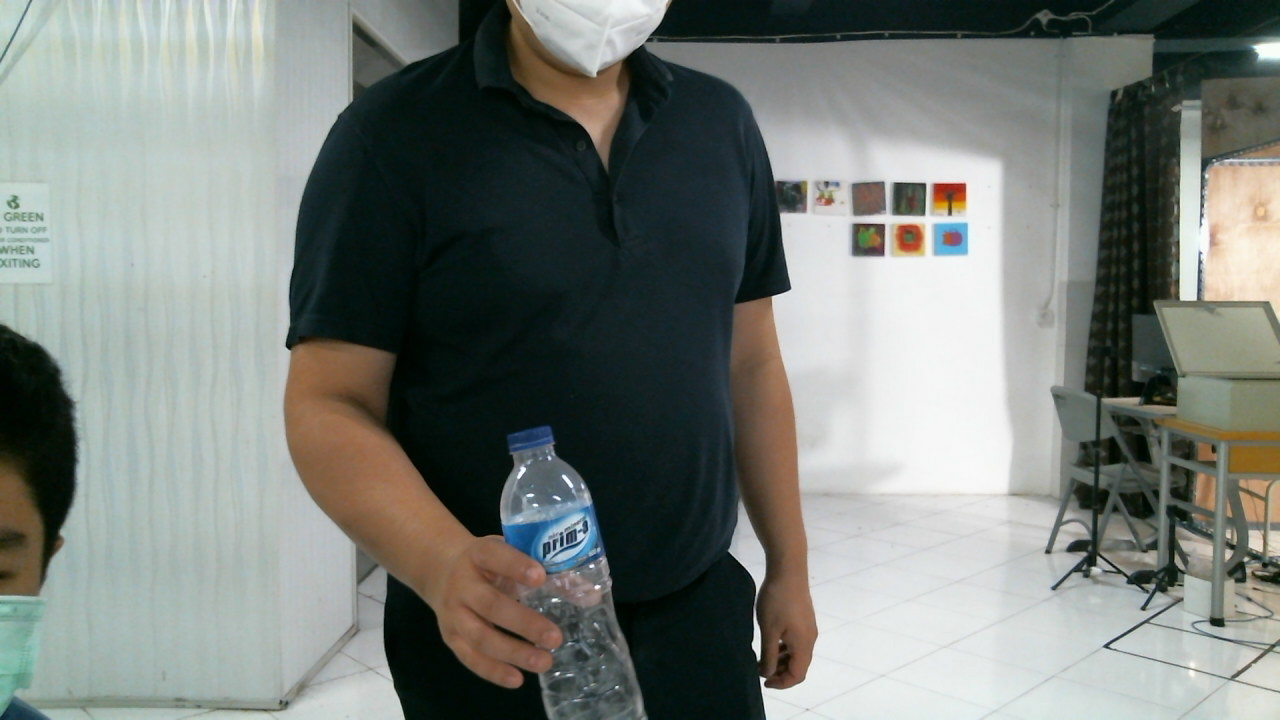Bottle: (497, 418, 651, 720)
